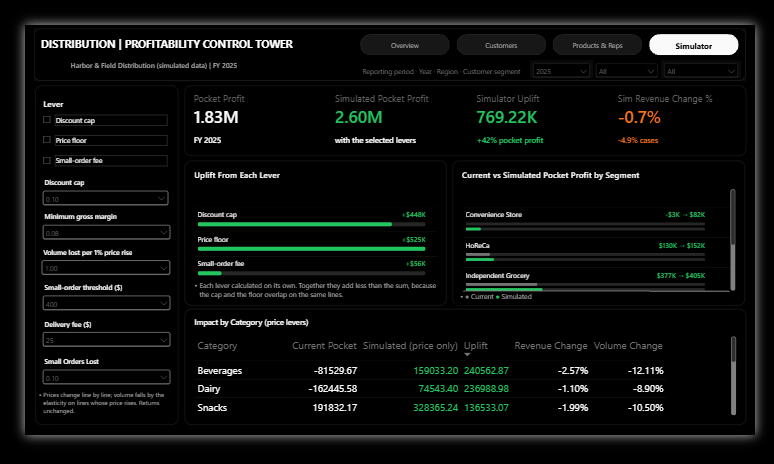

The page's visual inventory and layout, read from the dashboard file:
{"tool":"powerbi","page":{"name":"Simulator","canvas":[1280,720],"ordinal":3},"visuals":[{"type":"shape","box":[15.8,5.7,1248.3,91.8],"z":0,"group":"g1"},{"type":"shape","box":[17.9,106,250.7,595.5],"z":0},{"type":"slicer","fields":{"Values":["Levers.Lever"]},"box":[24,128,226,140],"z":1000},{"type":"group","id":"g1","title":"Group 1","box":[15.8,5.7,1248.3,91.8],"z":2000},{"type":"textbox","box":[27.2,19.8,520.8,30.1],"z":2000,"group":"g1"},{"type":"slicer","fields":{"Values":["Discount Cap.Value"]},"box":[26,268,230,64],"z":2001},{"type":"slicer","fields":{"Values":["Min Gross Margin.Value"]},"box":[26,328,234,58],"z":2002},{"type":"slicer","fields":{"Values":["Elasticity.Value"]},"box":[24,390,236,62],"z":2003},{"type":"slicer","fields":{"Values":["Small Order Threshold.Value"]},"box":[26,452,234,58],"z":2004},{"type":"slicer","fields":{"Values":["Delivery Fee.Value"]},"box":[26,516,234,58],"z":2005},{"type":"slicer","fields":{"Values":["Small Orders Lost.Value"]},"box":[26,582,234,62],"z":2006},{"type":"textbox","box":[16.4,641.8,250.7,59.7],"z":2007},{"type":"shape","box":[279.1,106,985.1,123.9],"z":2008},{"type":"cardVisual","fields":{"Data":["_Measures.Pocket Profit","_Measures.Simulated Pocket Profit","_Measures.Simulator Uplift","_Measures.Sim Revenue Change %"]},"box":[279.1,122.4,985.1,107.5],"z":2009},{"type":"tableEx","title":"Uplift From Each Lever","fields":{"Values":["_Measures.SVG Lever Bar","Lever Chart.Lever","Sum(Lever Chart.Order)"]},"box":[279.3,238.6,459.7,254.6],"z":2010},{"type":"textbox","box":[288.1,448.1,436,40],"z":2011},{"type":"tableEx","title":"Current vs Simulated Pocket Profit by Segment","fields":{"Values":["_Measures.SVG Segment Sim","dim_customer.segment","Sum(fact_sales.pocket_profit)"]},"box":[750.7,238.6,513.6,254.6],"z":2012},{"type":"textbox","box":[754,468,488.8,23],"z":2013},{"type":"tableEx","title":"Impact by Category (price levers)","fields":{"Values":["dim_product.category","_Measures.Pocket Profit","_Measures.Sim Pocket (price only)","_Measures.Price Lever Uplift","_Measures.Sim Revenue Change %","_Measures.Sim Volume Change %"]},"box":[279.3,497.6,984.9,203.7],"z":2014},{"type":"cardVisual","fields":{"Data":["_Measures.Report Subtitle"]},"box":[64.5,57.4,520,24],"z":3000,"group":"g1"},{"type":"slicer","fields":{"Values":["dim_date.date.Variation.Date Hierarchy.Year"]},"box":[885.3,61.7,110.5,31.6],"z":4000,"group":"g1"},{"type":"pageNavigator","box":[587.6,16.3,667.2,37.3],"z":5000,"group":"g1"},{"type":"slicer","fields":{"Values":["dim_customer.region"]},"box":[995.8,61.7,119.1,31.6],"z":6000,"group":"g1"},{"type":"slicer","fields":{"Values":["dim_customer.segment"]},"box":[1114.9,61.7,140,32],"z":7000,"group":"g1"},{"type":"textbox","box":[592.6,71.7,292.6,22.2],"z":8000,"group":"g1"}]}

Visuals, with their boxes on the page's 1280x720 design canvas (x1, y1, x2, y2). These are canvas units, not pixel positions in the 774x464 screenshot, which may show the page scaled, cropped or inside an application window:
shape: [16, 6, 1264, 98]
shape: [18, 106, 269, 702]
slicer - Levers.Lever: [24, 128, 250, 268]
"Group 1" group: [16, 6, 1264, 98]
textbox: [27, 20, 548, 50]
slicer - Discount Cap.Value: [26, 268, 256, 332]
slicer - Min Gross Margin.Value: [26, 328, 260, 386]
slicer - Elasticity.Value: [24, 390, 260, 452]
slicer - Small Order Threshold.Value: [26, 452, 260, 510]
slicer - Delivery Fee.Value: [26, 516, 260, 574]
slicer - Small Orders Lost.Value: [26, 582, 260, 644]
textbox: [16, 642, 267, 702]
shape: [279, 106, 1264, 230]
cardVisual - _Measures.Pocket Profit x _Measures.Simulated Pocket Profit: [279, 122, 1264, 230]
"Uplift From Each Lever" tableEx: [279, 239, 739, 493]
textbox: [288, 448, 724, 488]
"Current vs Simulated Pocket Profit by Segment" tableEx: [751, 239, 1264, 493]
textbox: [754, 468, 1243, 491]
"Impact by Category (price levers)" tableEx: [279, 498, 1264, 701]
cardVisual - _Measures.Report Subtitle: [64, 57, 584, 81]
slicer - dim_date.date.Variation.Date Hierarchy.Year: [885, 62, 996, 93]
pageNavigator: [588, 16, 1255, 54]
slicer - dim_customer.region: [996, 62, 1115, 93]
slicer - dim_customer.segment: [1115, 62, 1255, 94]
textbox: [593, 72, 885, 94]
